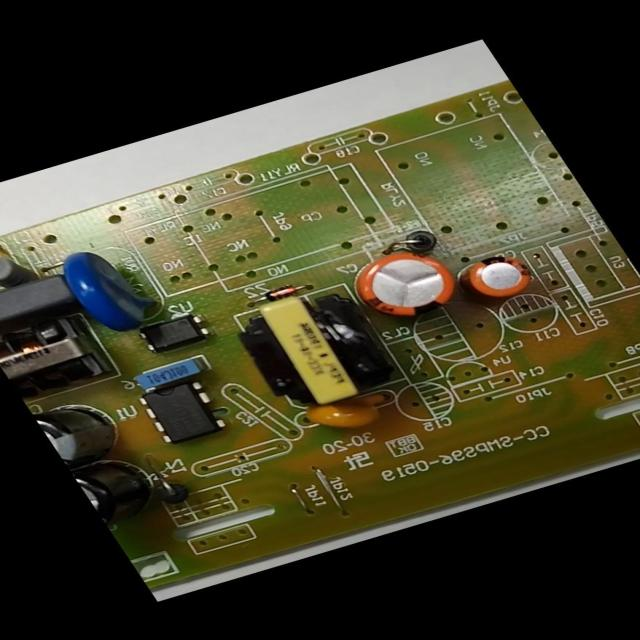Cap1: (334, 231, 479, 334)
Cap2: (441, 242, 551, 316)
Cap3: (29, 391, 135, 472)
Cap4: (66, 442, 192, 538)
MOSFET: (126, 367, 246, 452)
Mov: (34, 233, 183, 345)
Resistor: (0, 231, 49, 300)
Transformer: (213, 271, 426, 425), (0, 306, 123, 403)
